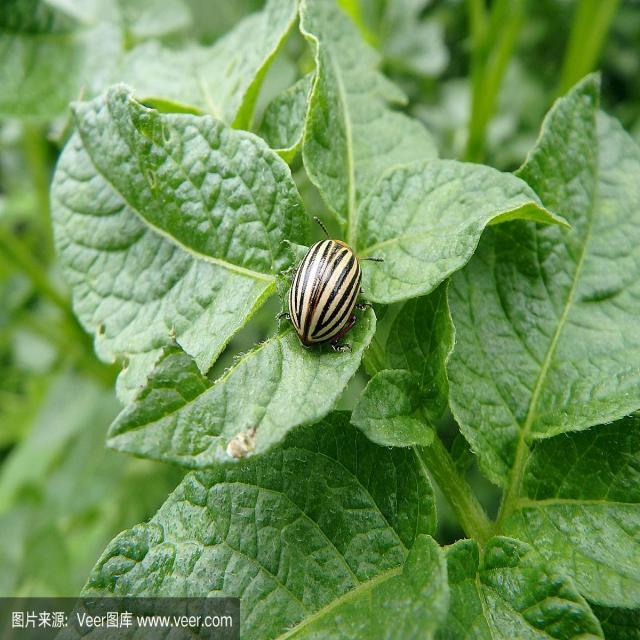ShuCaiHuaBanChong-Grown-: (274, 218, 371, 356)
